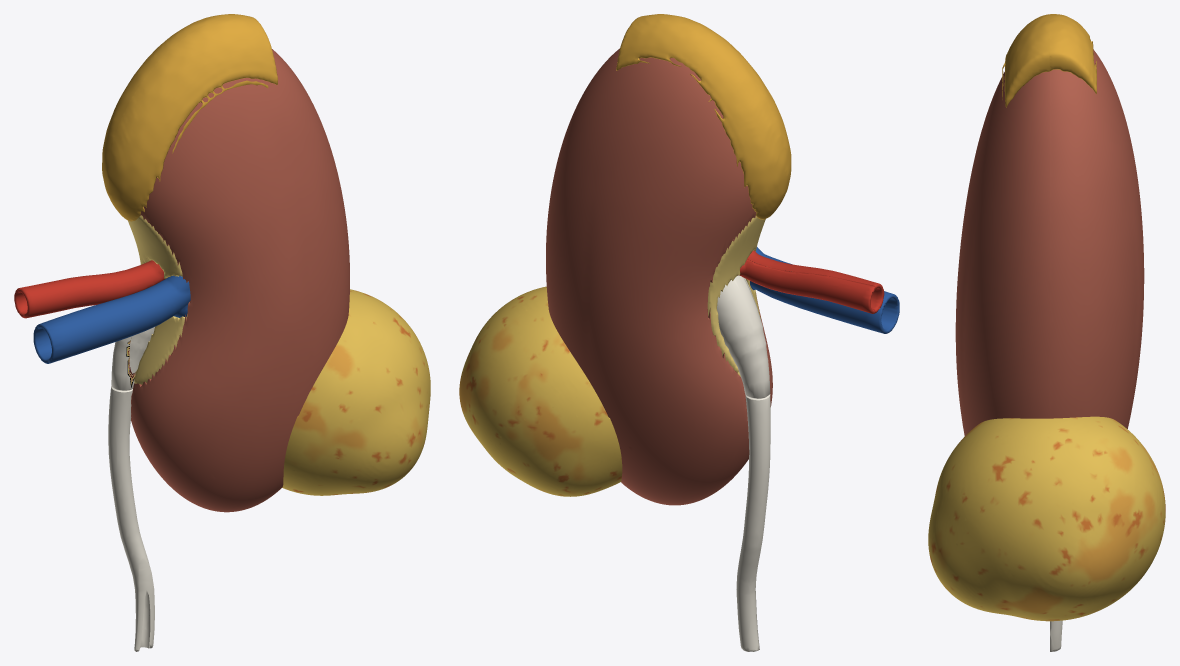
Rendered from kidney_aml_coronal.glb.
3 views of the same model, side by side, from view 1: azimuth 30°, elevation 25°; view 2: azimuth 150°, elevation 25°; view 3: azimuth 270°, elevation 25° (orthographic). The views are drawn at different scales.
Visible parts, largest first — view 1: anterior_half, ureter, adrenal_gland, renal_pelvis; view 2: renal_cortex, aml, adrenal_gland, anterior_half, ureter, renal_pelvis, renal_artery, renal_sinus; view 3: anterior_half, renal_cortex, aml, adrenal_gland, ureter.
Part boxes in pixels (box(x1,y1,x2,y2)): anterior_half: box(20, 18, 430, 512); ureter: box(108, 386, 154, 651); adrenal_gland: box(102, 14, 256, 216); renal_pelvis: box(111, 336, 136, 390); renal_cortex: box(546, 48, 756, 505); aml: box(459, 292, 622, 496); adrenal_gland: box(616, 15, 787, 219); anterior_half: box(511, 14, 899, 497); ureter: box(736, 394, 770, 651); renal_pelvis: box(717, 275, 770, 398); renal_artery: box(738, 259, 875, 313); renal_sinus: box(707, 216, 761, 376); anterior_half: box(928, 14, 1049, 621); renal_cortex: box(1050, 49, 1144, 428); aml: box(1050, 416, 1165, 621); adrenal_gland: box(1050, 14, 1096, 94); ureter: box(1050, 620, 1062, 651).
Size of the model in its own units: 9.76 by 14.23 by 4.61.
1 material, 1 textured.
